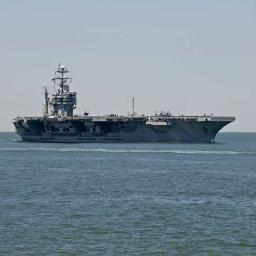Portanaves: (13, 60, 239, 146)
